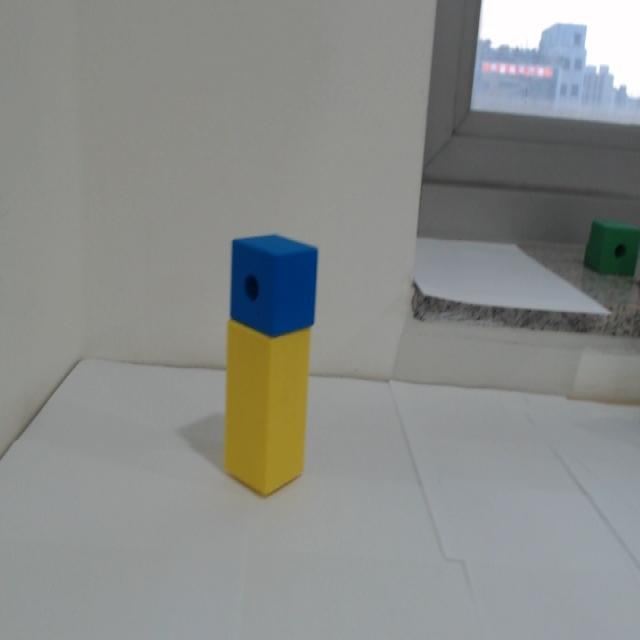cube: (227, 227, 323, 343)
